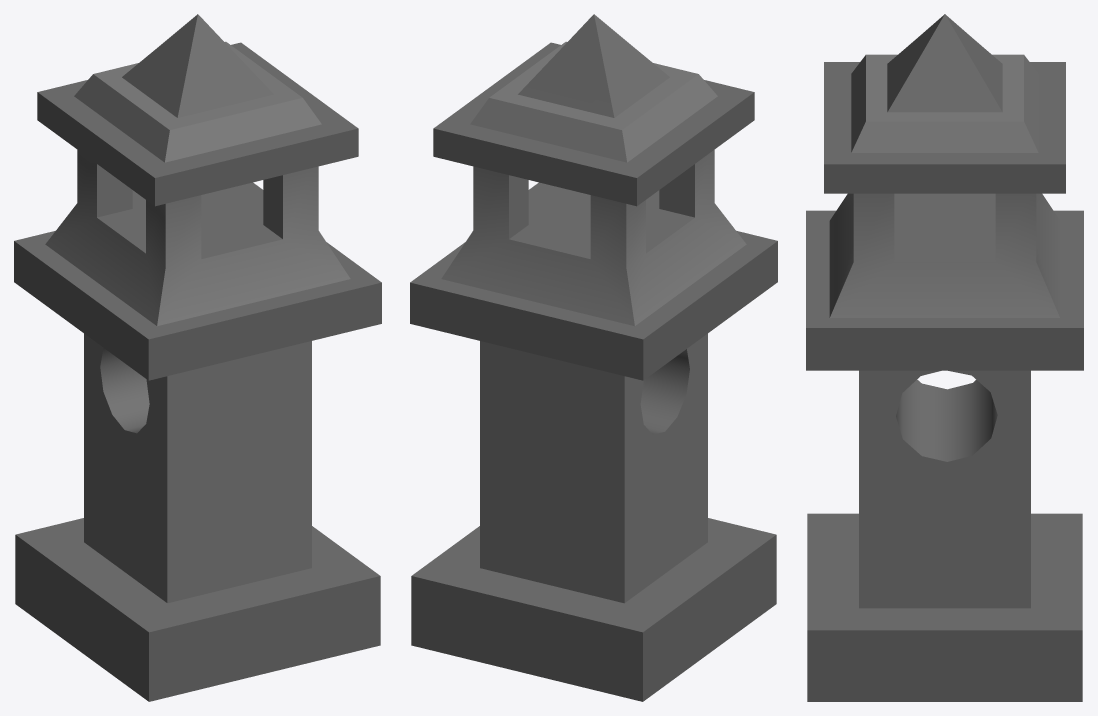
File: lantern9.fbx
3 views of the same model, side by side, from view 1: azimuth 30°, elevation 25°; view 2: azimuth 150°, elevation 25°; view 3: azimuth 270°, elevation 25° (orthographic). The views are drawn at different scales.
Parts seen in each view (by area): view 1: lantern9; view 2: lantern9; view 3: lantern9.
Boxes of the visible parts, x1,y1,x2,y2 form: lantern9: (14, 14, 381, 701); lantern9: (410, 14, 777, 701); lantern9: (806, 14, 1083, 701).
Size of the model in its own units: 103 by 259 by 103.
